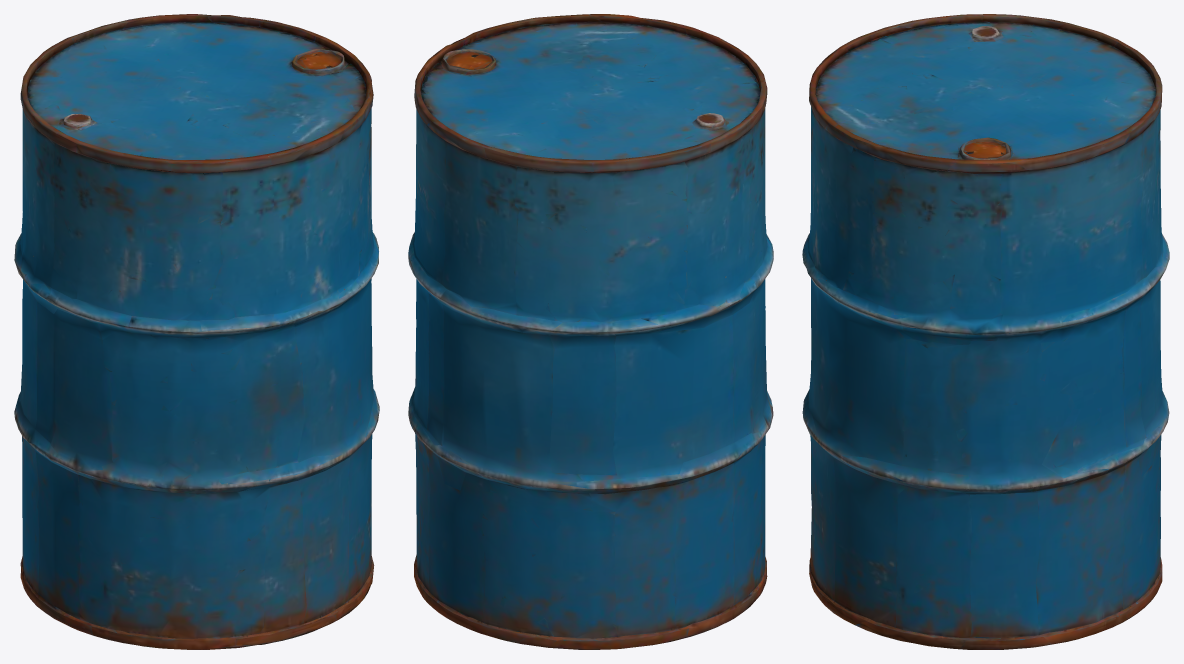
Rendered from permissive-update.glb.
3 renders of one model, left to right at view 1: azimuth 30°, elevation 25°; view 2: azimuth 150°, elevation 25°; view 3: azimuth 270°, elevation 25°, orthographic.
Parts seen in each view (by area): view 1: world; view 2: world; view 3: world.
Part boxes in pixels (bbox=[...]): world: bbox=[14, 14, 379, 649]; world: bbox=[408, 14, 773, 649]; world: bbox=[802, 14, 1169, 649].
Bounding box in the file's own units: 0.6835 × 1 × 0.6835.
1 material, 1 textured.
